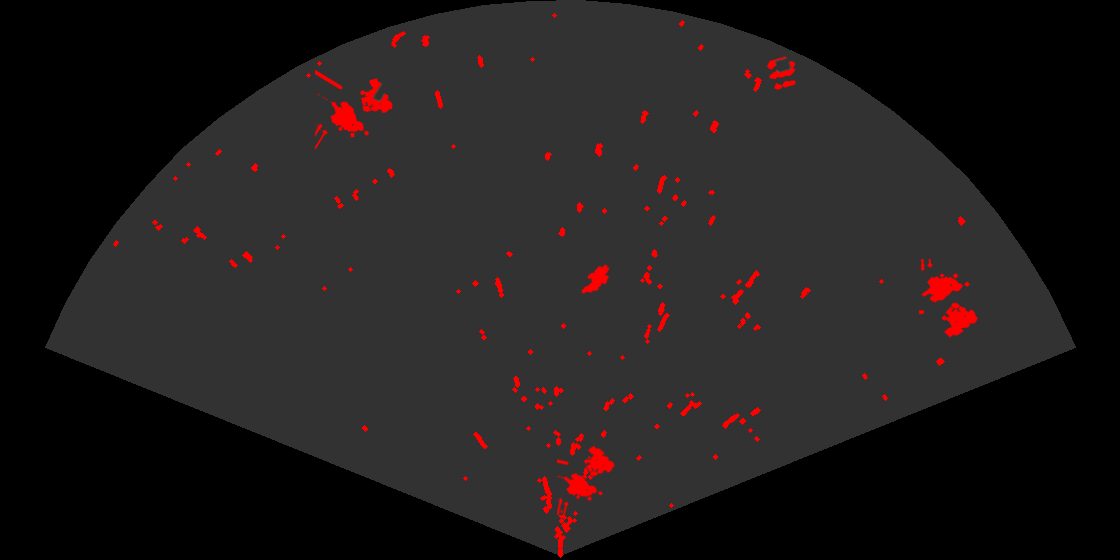AUV: (580, 263, 611, 295)
ball: (765, 55, 798, 91)
cage: (315, 68, 394, 151), (919, 259, 979, 339), (557, 444, 616, 515)
